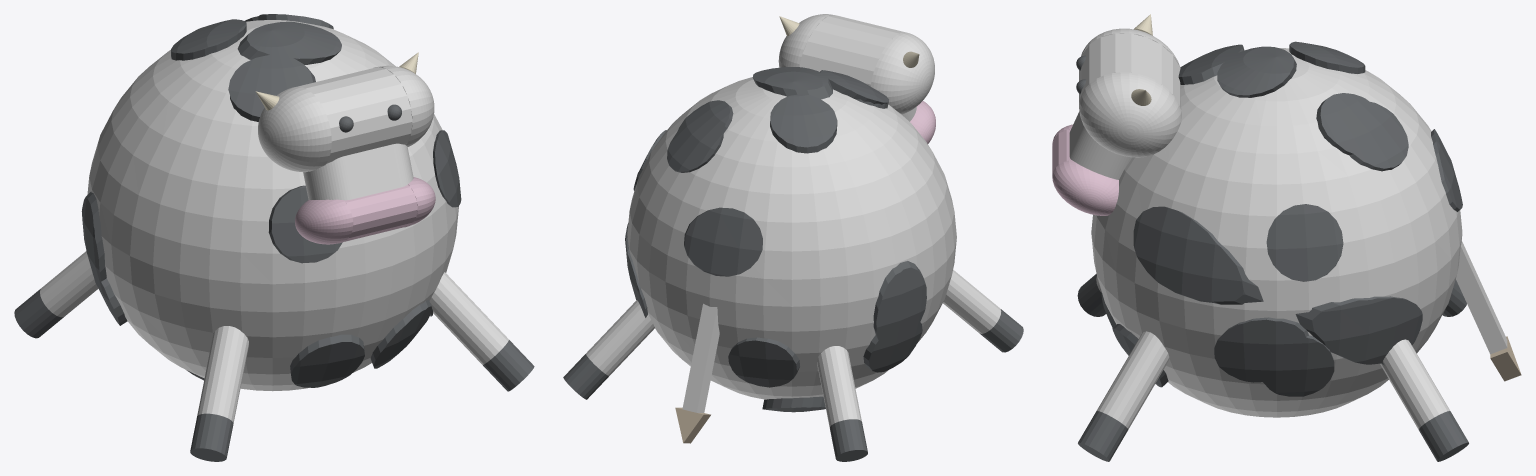
File: spherical_cow.glb
The picture shows the model from 3 angles, left to right: view 1: azimuth 30°, elevation 25°; view 2: azimuth 150°, elevation 25°; view 3: azimuth 270°, elevation 25°; orthographic projection. The views are drawn at different scales.
Parts seen in each view (by area): view 1: Mesh_Mesh_head_geo.001_lambert2SG.001; view 2: Mesh_Mesh_head_geo.001_lambert2SG.001; view 3: Mesh_Mesh_head_geo.001_lambert2SG.001.
Part boxes in pixels (left/top/right/bottom): Mesh_Mesh_head_geo.001_lambert2SG.001: left=14, top=14, right=534, bottom=461; Mesh_Mesh_head_geo.001_lambert2SG.001: left=563, top=14, right=1023, bottom=461; Mesh_Mesh_head_geo.001_lambert2SG.001: left=1052, top=14, right=1521, bottom=461.
Bounding box in the file's own units: 21.1 × 21.35 × 25.28.
